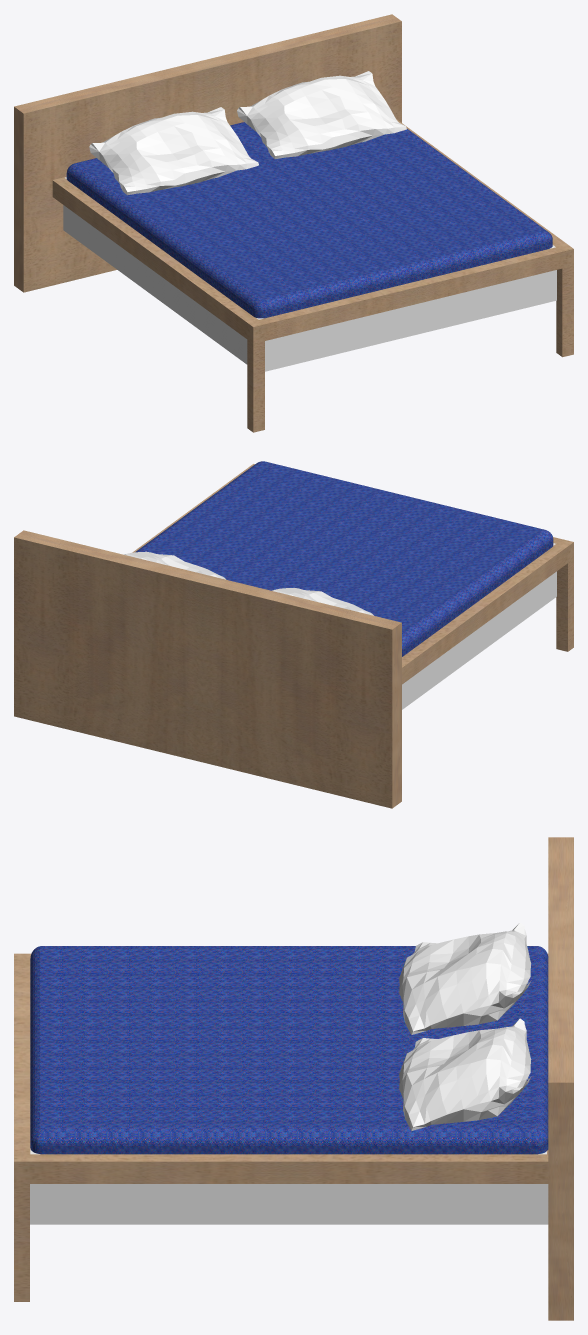
3 views of the same model, one above another, from view 1: azimuth 30°, elevation 25°; view 2: azimuth 150°, elevation 25°; view 3: azimuth 270°, elevation 25° (orthographic). The views are drawn at different scales.
Visible parts, largest first — view 1: ChamferBox, Box03, Box01, Box02, VIFS03, VIFS02, Box06, Box05; view 2: Box03, ChamferBox, Box02, Box01, Box06, VIFS03, VIFS02; view 3: ChamferBox, Box01, Box02, Box03, VIFS03, VIFS02, Box05.
Part boxes in pixels (box(x1,y1,x2,y2)): ChamferBox: box(66, 122, 552, 318); Box03: box(14, 14, 401, 292); Box01: box(63, 177, 556, 371); Box02: box(52, 119, 573, 343); VIFS03: box(237, 71, 406, 159); VIFS02: box(89, 107, 258, 195); Box06: box(247, 323, 264, 432); Box05: box(556, 244, 573, 357); Box03: box(14, 530, 401, 808); ChamferBox: box(135, 461, 553, 656); Box02: box(132, 464, 572, 684); Box01: box(402, 543, 556, 709); Box06: box(556, 540, 573, 651); VIFS03: box(124, 551, 225, 579); VIFS02: box(272, 588, 373, 615); ChamferBox: box(30, 946, 548, 1154); Box01: box(30, 1148, 548, 1224); Box02: box(14, 953, 548, 1183); Box03: box(548, 837, 573, 1320); VIFS03: box(399, 1018, 531, 1130); VIFS02: box(399, 922, 531, 1034); Box05: box(14, 1154, 29, 1301).
Size of the model in its own units: 8862 by 8545 by 4053.
13 materials, 2 textured.
